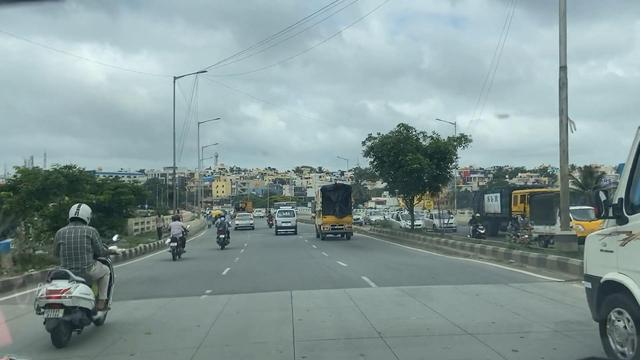HMV: (312, 184, 358, 235)
LMV: (34, 203, 118, 349), (206, 215, 234, 249), (272, 206, 302, 235), (172, 214, 187, 257)
